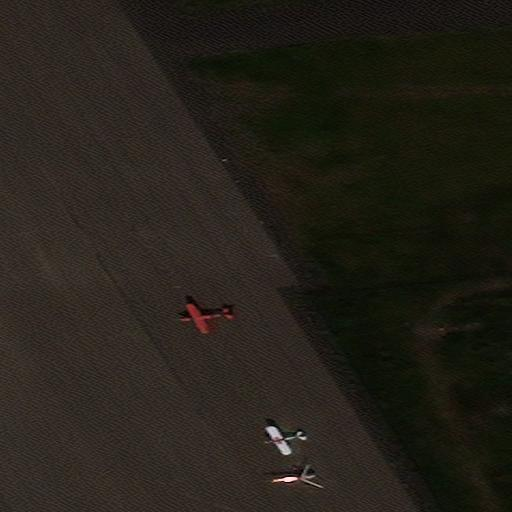Small Civil Transport: (178, 305, 231, 334), (263, 428, 306, 456)
